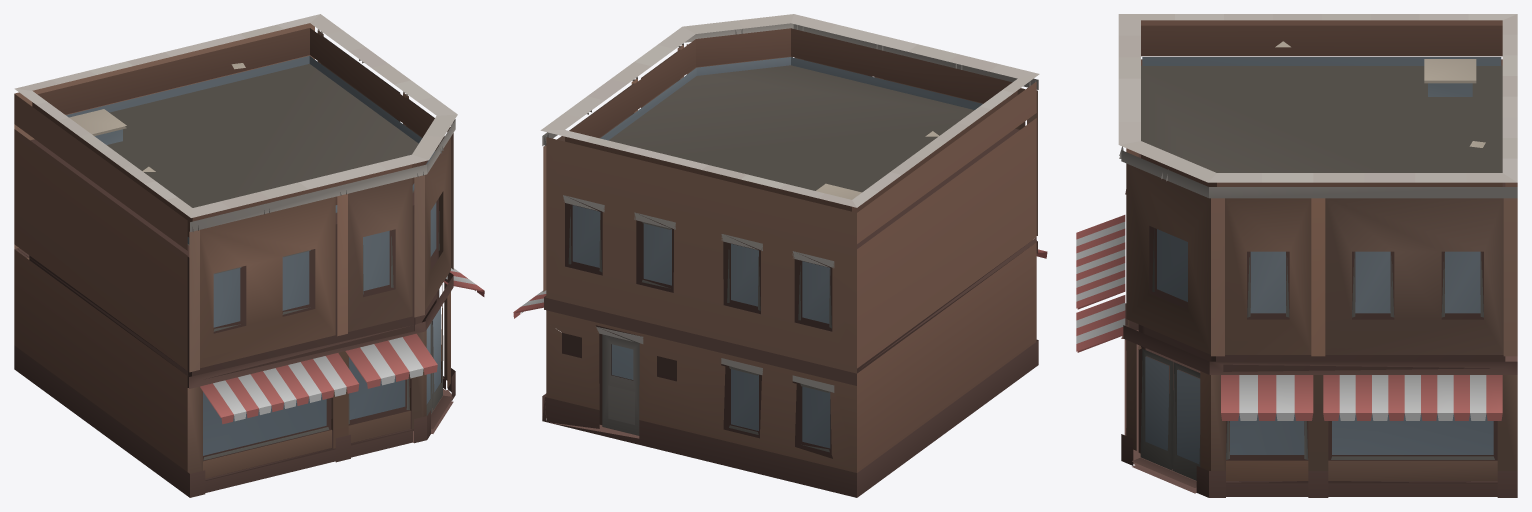
Rendered from cornershop.lod.glb.
3 views of the same model, side by side, from view 1: azimuth 30°, elevation 25°; view 2: azimuth 150°, elevation 25°; view 3: azimuth 270°, elevation 25° (orthographic). The views are drawn at different scales.
Parts seen in each view (by area): view 1: cornershop; view 2: cornershop; view 3: cornershop.
Boxes of the visible parts, x1=… form: cornershop: x1=14, y1=14, x2=484, y2=497; cornershop: x1=513, y1=14, x2=1047, y2=497; cornershop: x1=1076, y1=14, x2=1517, y2=497.
Bounding box in the file's own units: 8.85 × 7 × 8.85.
